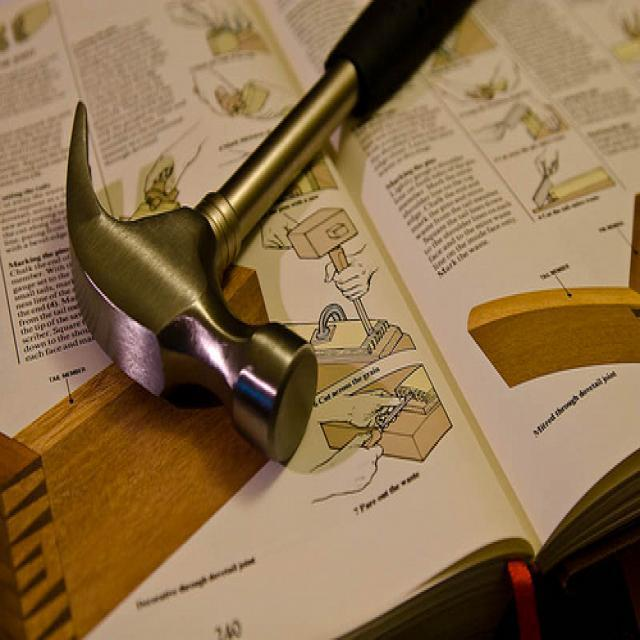hammer: (54, 0, 523, 496)
